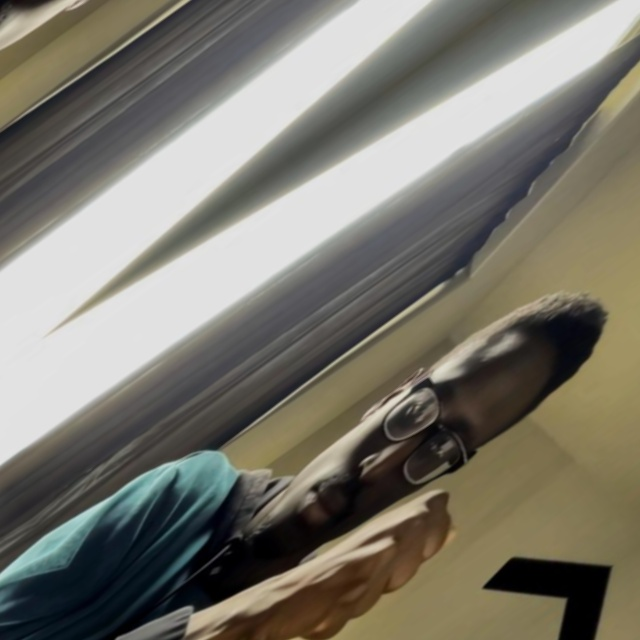Rock: (0, 0, 42, 83)
